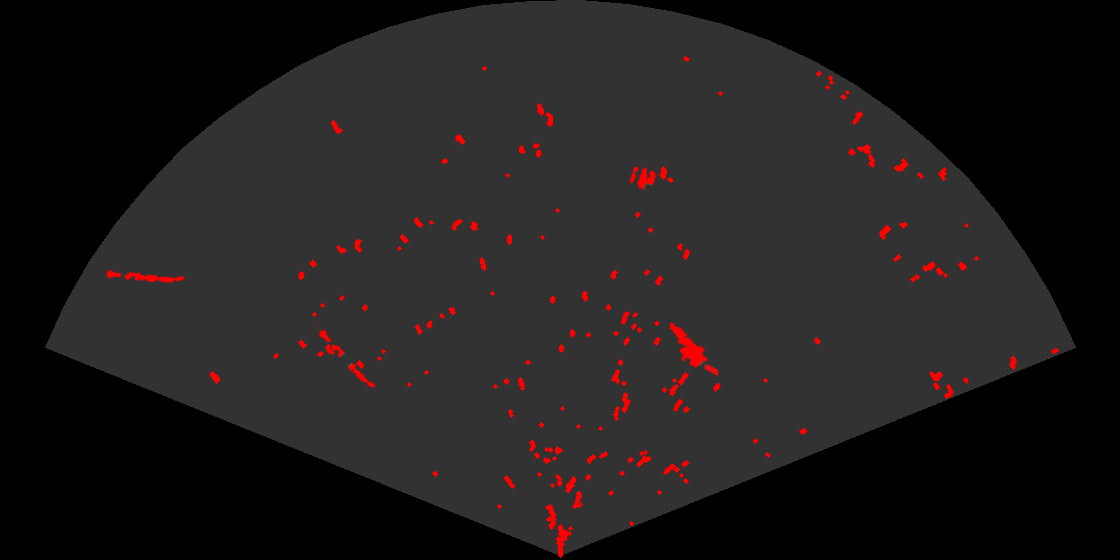ball: (628, 165, 658, 192)
chain: (311, 323, 377, 389), (103, 268, 185, 285)
frogman: (667, 321, 718, 377)
